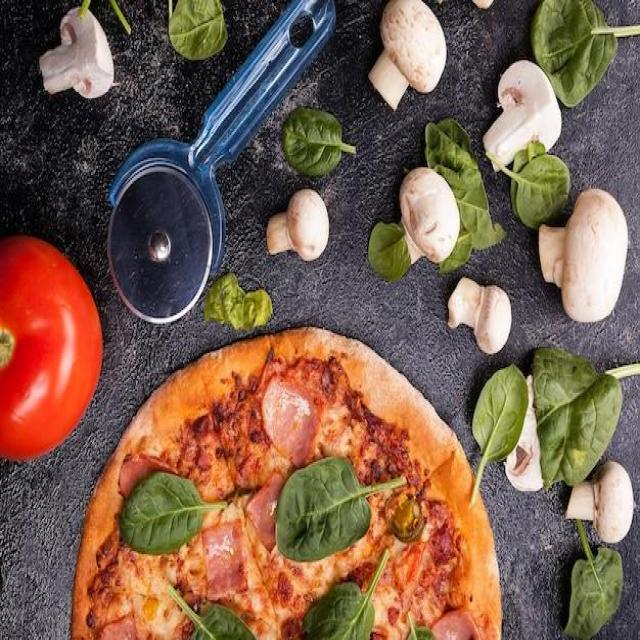basil: (532, 349, 640, 496), (276, 457, 411, 565), (425, 116, 506, 274), (533, 0, 640, 109), (116, 471, 228, 553), (298, 548, 397, 640), (468, 364, 528, 508), (495, 137, 571, 232), (564, 519, 624, 637), (163, 583, 256, 640), (286, 111, 356, 179), (200, 274, 272, 333), (164, 0, 231, 61), (368, 220, 412, 280), (79, 0, 137, 40)
pizza: (73, 327, 503, 640)
